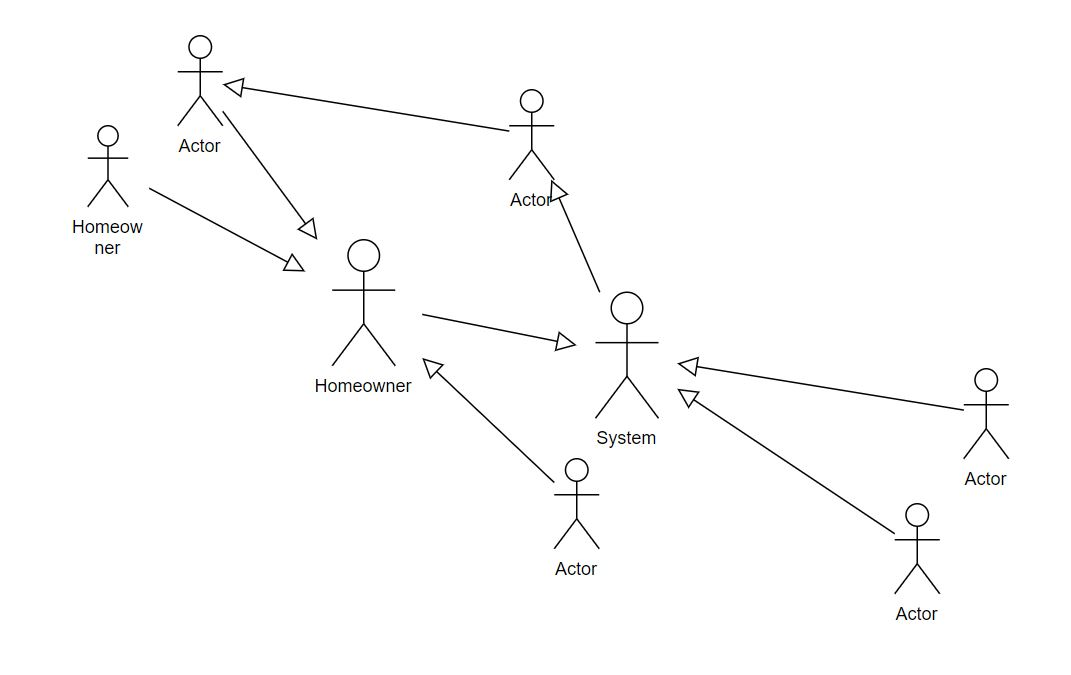actor: (327, 237, 395, 367), (597, 291, 659, 422), (551, 457, 604, 551), (176, 36, 224, 126), (961, 368, 1008, 458), (894, 503, 939, 594), (507, 90, 552, 179), (88, 123, 131, 211)
generalization: (678, 389, 894, 534), (422, 357, 554, 483), (676, 354, 963, 410), (221, 77, 508, 132), (149, 189, 305, 274), (222, 111, 317, 239), (419, 312, 575, 351), (550, 182, 601, 295)
text: (65, 217, 143, 256), (311, 373, 413, 397), (552, 557, 603, 582), (890, 602, 943, 624), (174, 136, 223, 157), (506, 190, 557, 210), (960, 468, 1008, 489)
